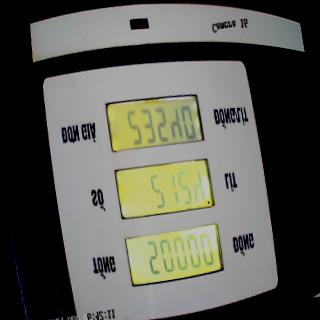screen: (102, 83, 228, 293)
